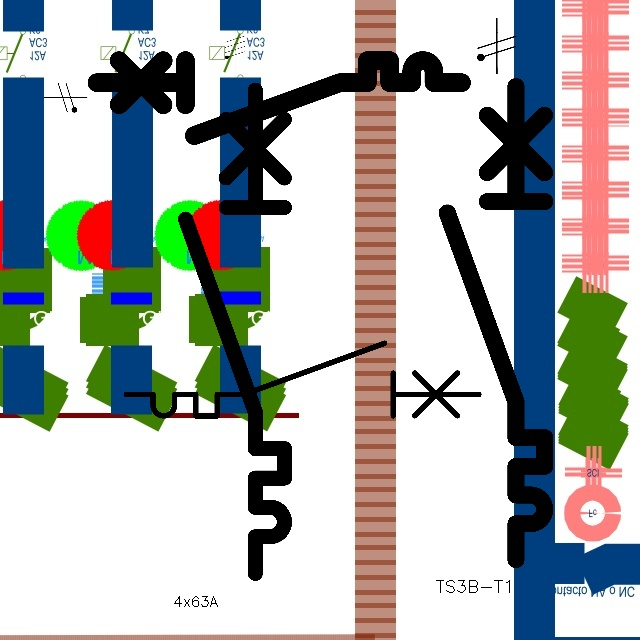interruptor_termomagnetico: (173, 77, 297, 585), (435, 74, 557, 572), (87, 51, 470, 145), (117, 334, 488, 425)
